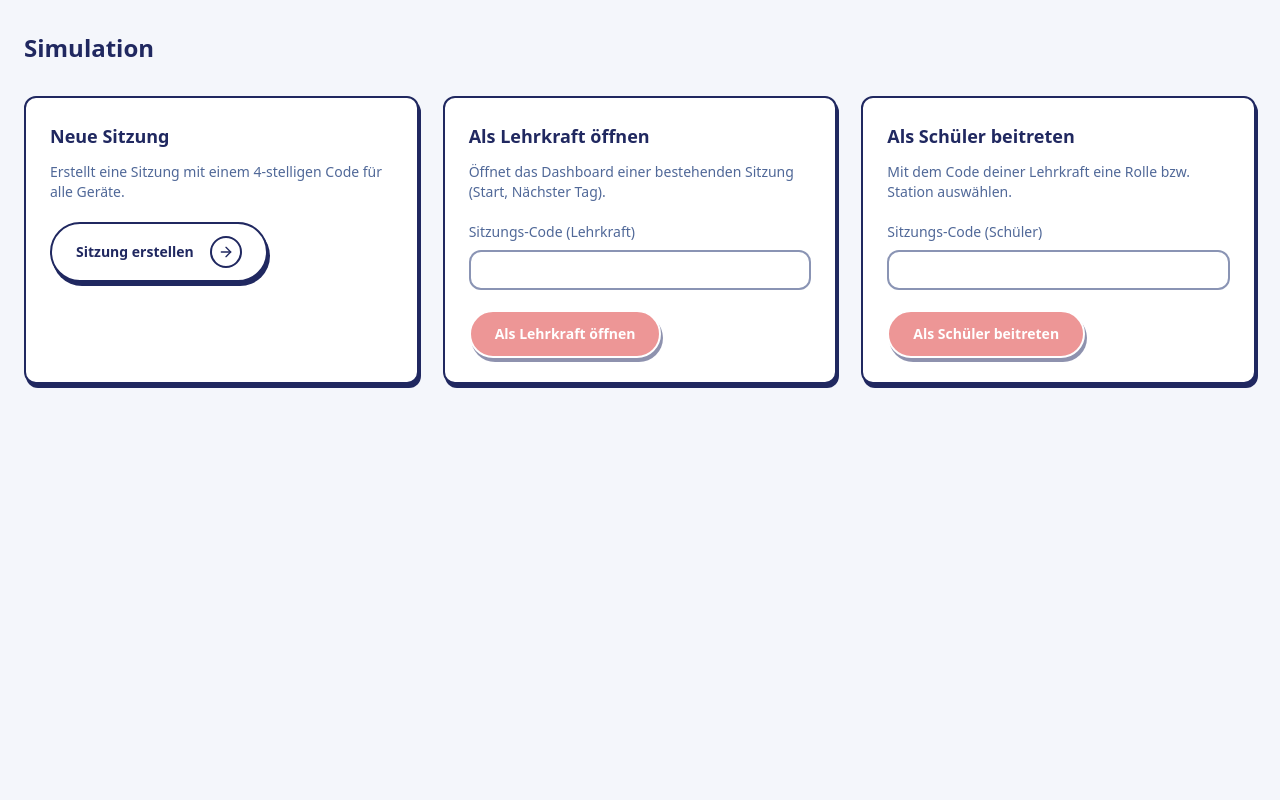
it: SimulationPage › sends a student with a typed code to the role selection, not the dashboard
Type "4827" into the field labelled "Sitzungs-Code (Schüler)" at (1059, 270), box x1=887 y1=250 x2=1230 y2=290
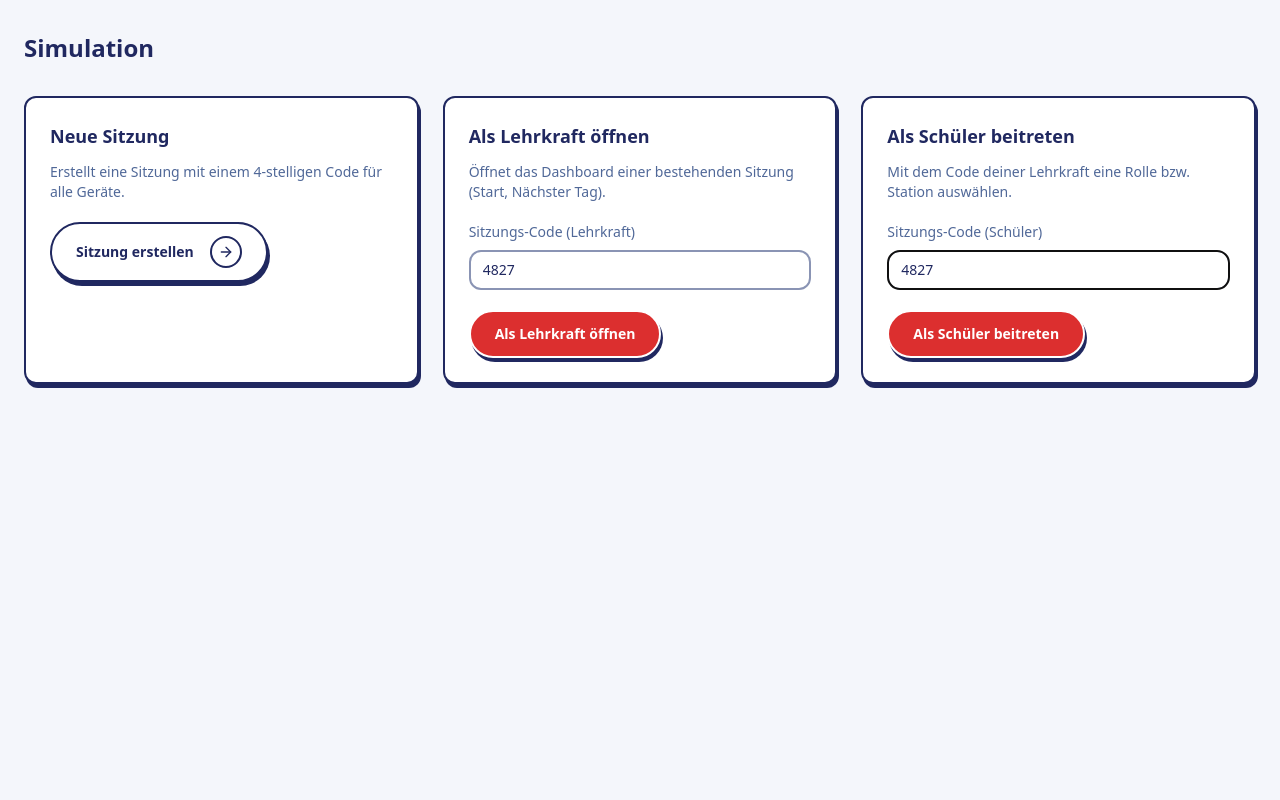
Click the button "Als Schüler beitreten" at (986, 334), box x1=887 y1=310 x2=1085 y2=358
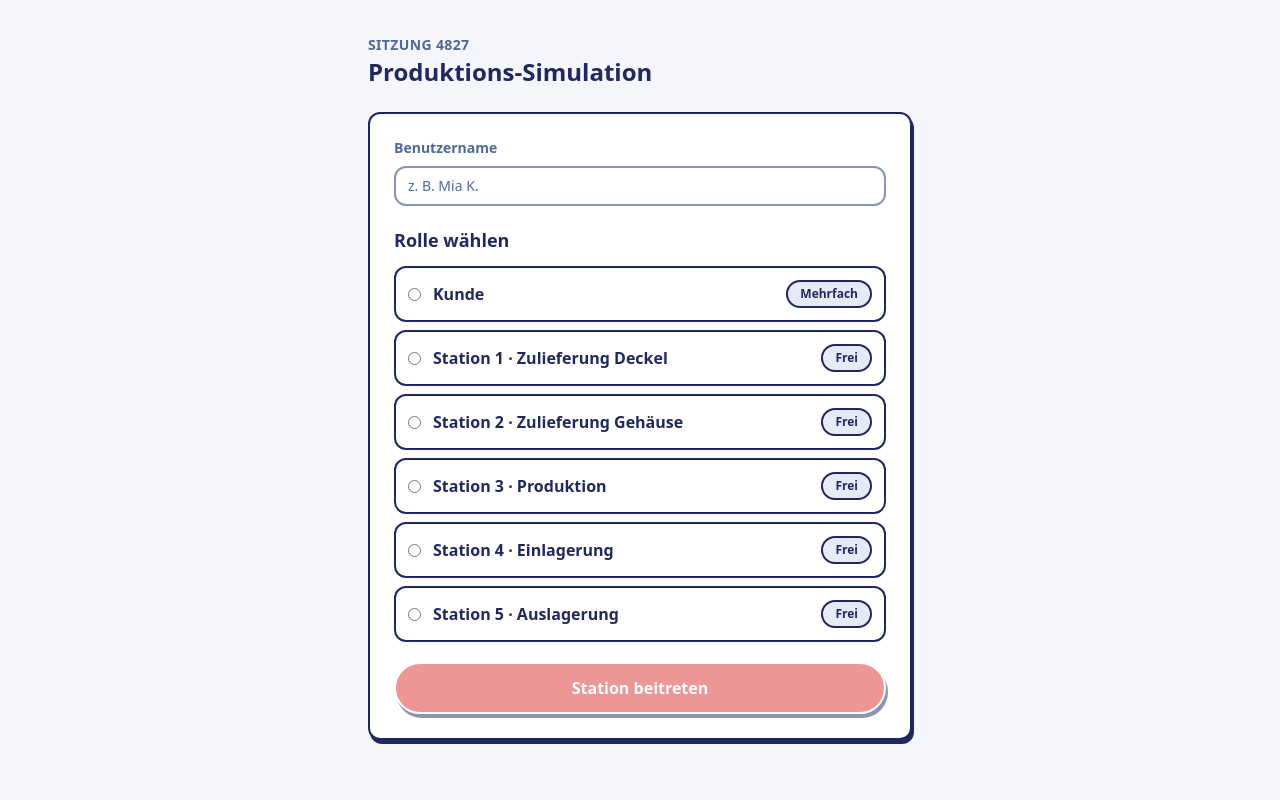
Expected: the heading "Rolle wählen" is shown, x1=394 y1=228 x2=509 y2=252
